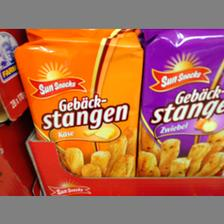Chips: (13, 36, 139, 176), (138, 32, 222, 176)
